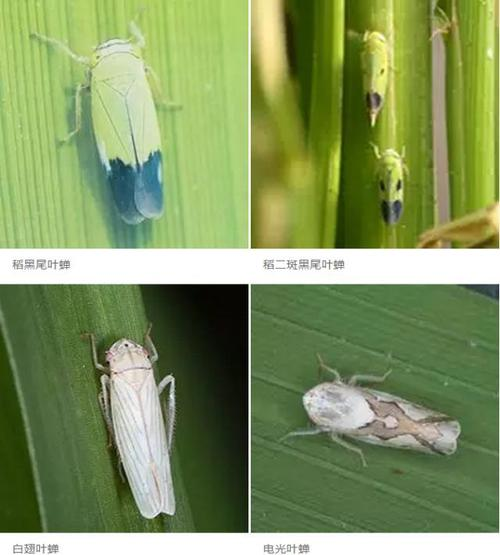Cicadellidae: (36, 28, 167, 223), (287, 354, 461, 469), (86, 326, 180, 519), (364, 141, 410, 225), (357, 30, 393, 126)
